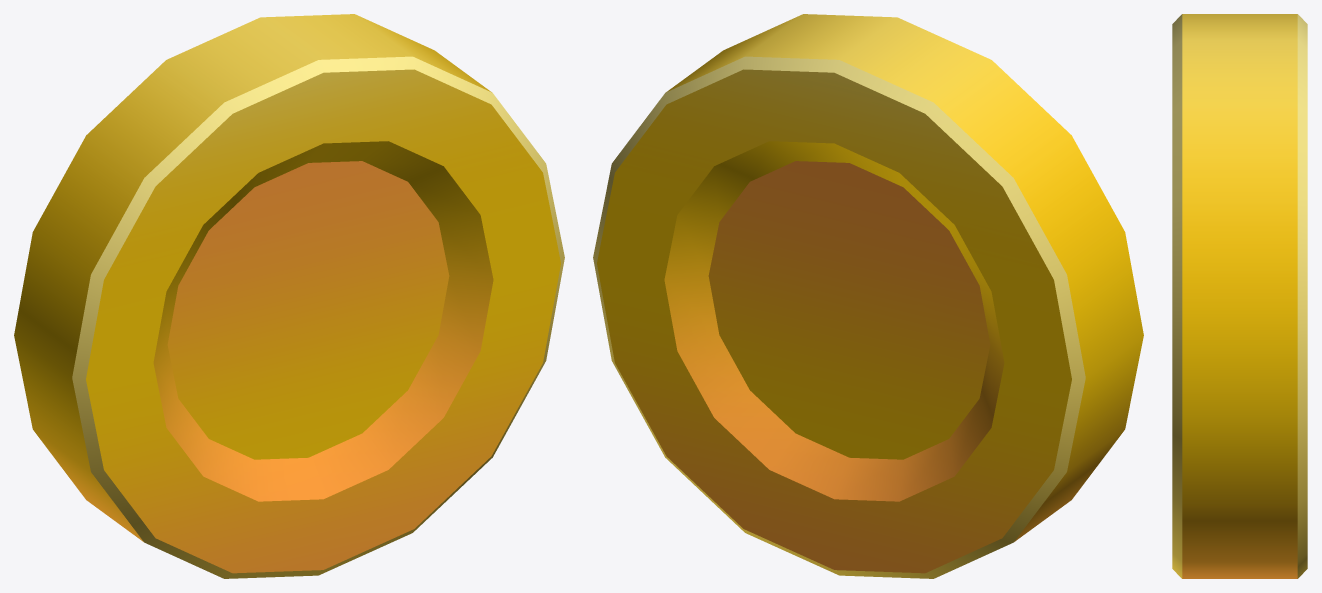
File: Coin.fbx
3 renders of one model, left to right at view 1: azimuth 30°, elevation 25°; view 2: azimuth 150°, elevation 25°; view 3: azimuth 270°, elevation 25°, orthographic.
Parts seen in each view (by area): view 1: Cylinder; view 2: Cylinder; view 3: Cylinder.
Part boxes in pixels (x1,y1,x2,y2): Cylinder: [14, 14, 564, 578]; Cylinder: [593, 14, 1143, 578]; Cylinder: [1172, 14, 1307, 578].
Size of the model in its own units: 66.62 by 66.62 by 15.94.
